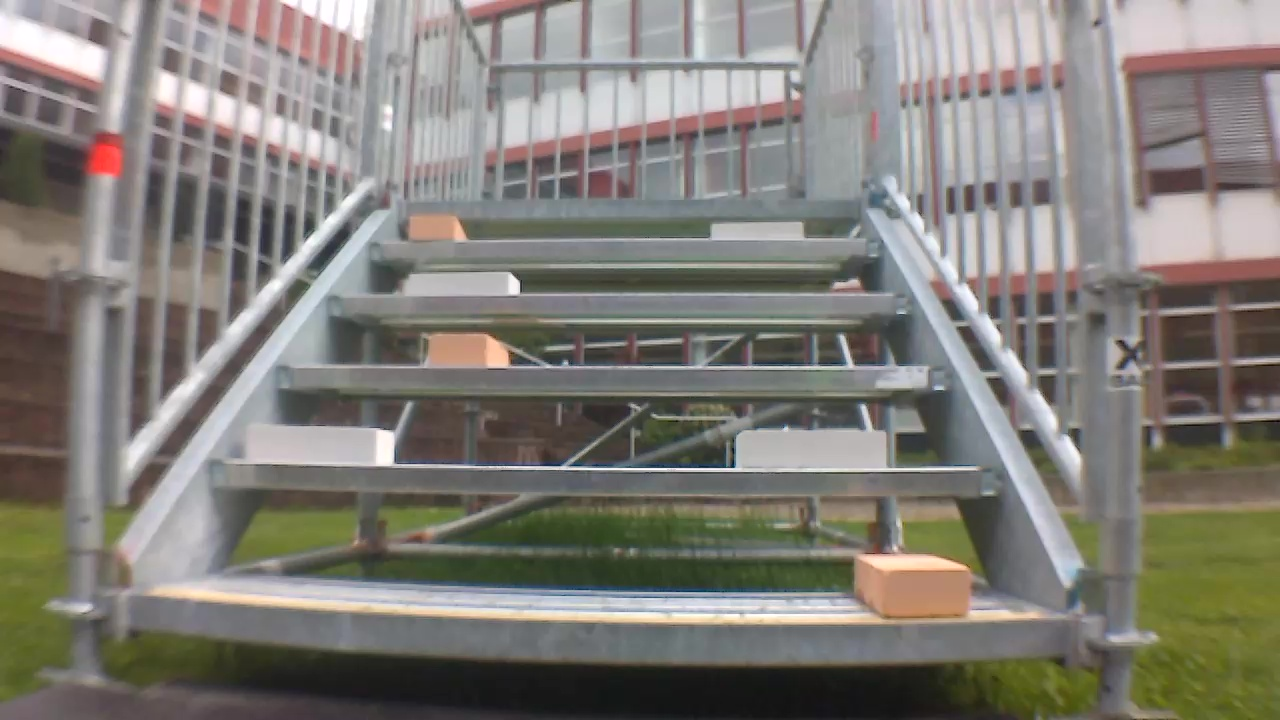brick: (855, 554, 970, 618), (248, 424, 395, 463), (737, 431, 884, 470), (430, 335, 507, 367), (411, 272, 518, 295), (711, 220, 803, 239), (409, 214, 463, 240)
edge: (132, 595, 1073, 663), (210, 461, 1006, 495), (275, 367, 958, 393), (325, 293, 910, 315), (366, 238, 884, 261), (399, 198, 864, 219)
stairs: (60, 2, 1151, 715)
steps: (122, 192, 1088, 669)
